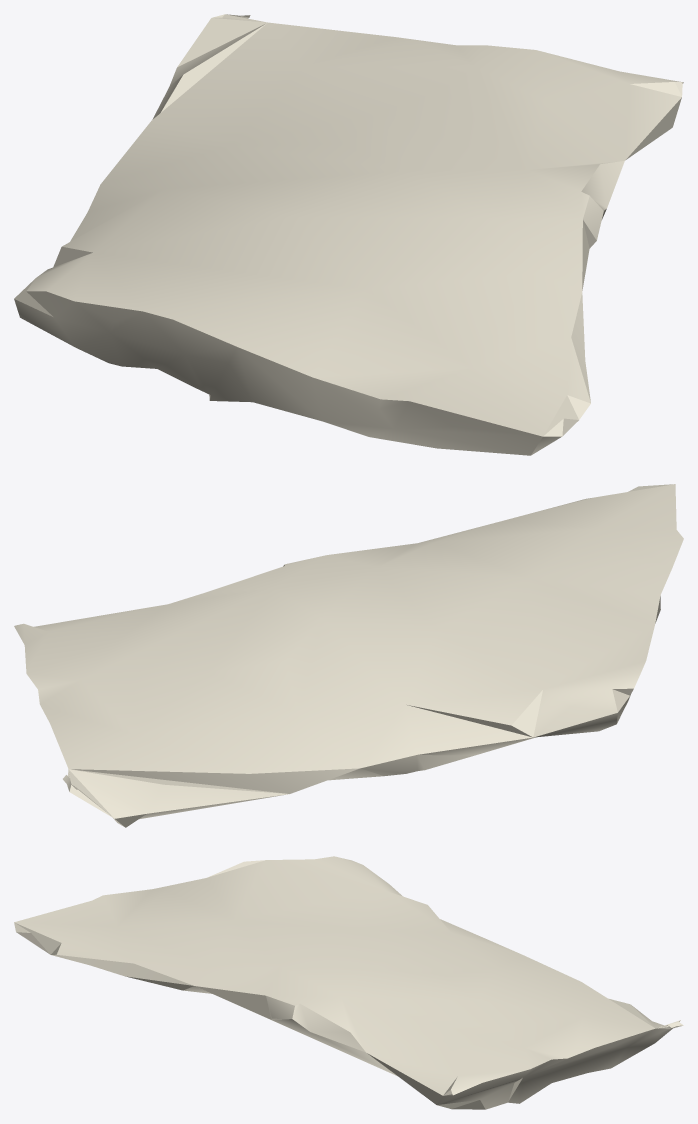
File: fma44505_mm1371.glb
3 views of the same model, one above another, from view 1: azimuth 30°, elevation 25°; view 2: azimuth 150°, elevation 25°; view 3: azimuth 270°, elevation 25° (orthographic). The views are drawn at different scales.
Visible parts, largest first — view 1: FMA44505_MM1371; view 2: FMA44505_MM1371; view 3: FMA44505_MM1371.
Boxes of the visible parts, x1,y1,x2,y2 form: FMA44505_MM1371: (14,14,683,455); FMA44505_MM1371: (14,484,683,827); FMA44505_MM1371: (14,856,683,1109).
Bounding box in the file's own units: 0.00911 × 0.00169 × 0.012.
